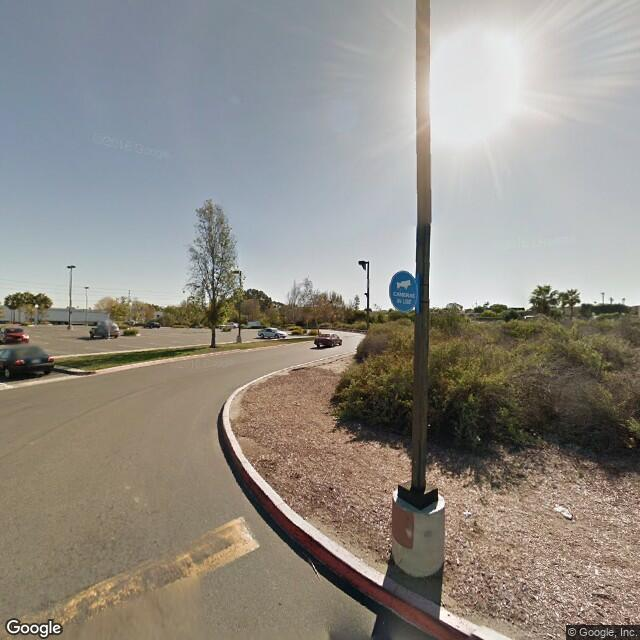litter: (552, 500, 574, 522), (462, 508, 474, 521), (475, 433, 482, 441)
